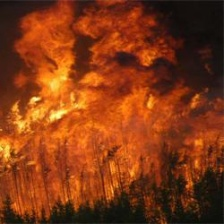fire: (11, 15, 199, 209)
